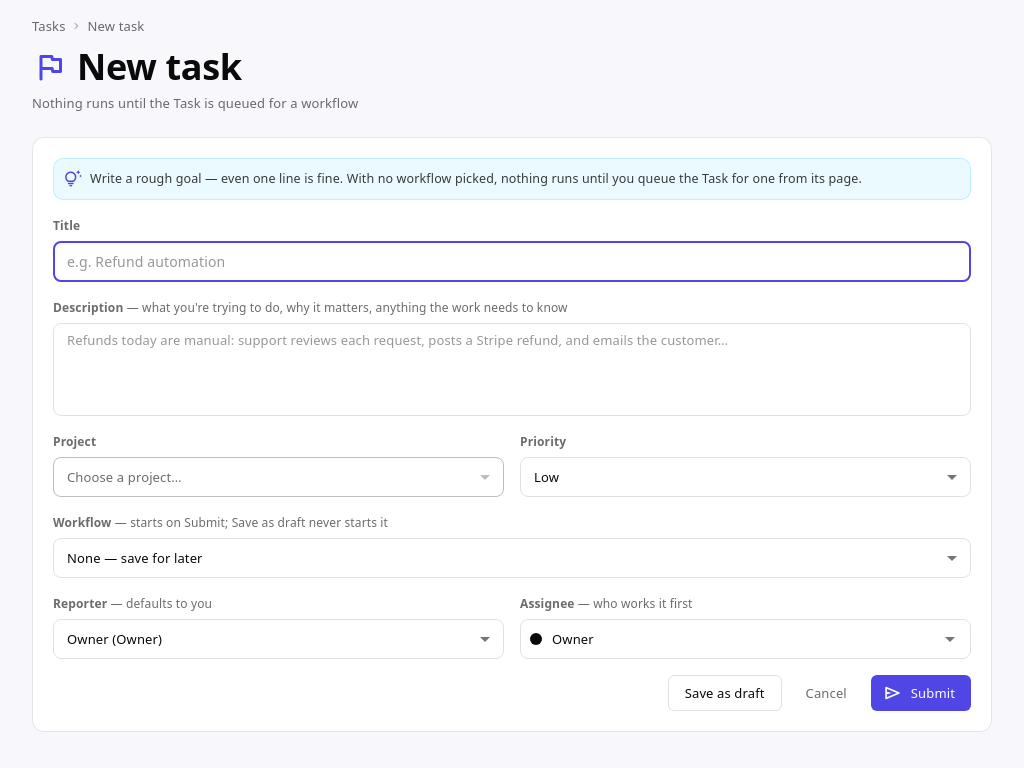
Test: TaskNew — workflow select (migration 022) › preselects the project's default and lists only workflows that take its Tasks
Type "Queued" into the field named "Title".
click(512, 262); type("Queued")  # box [53,242,971,282]
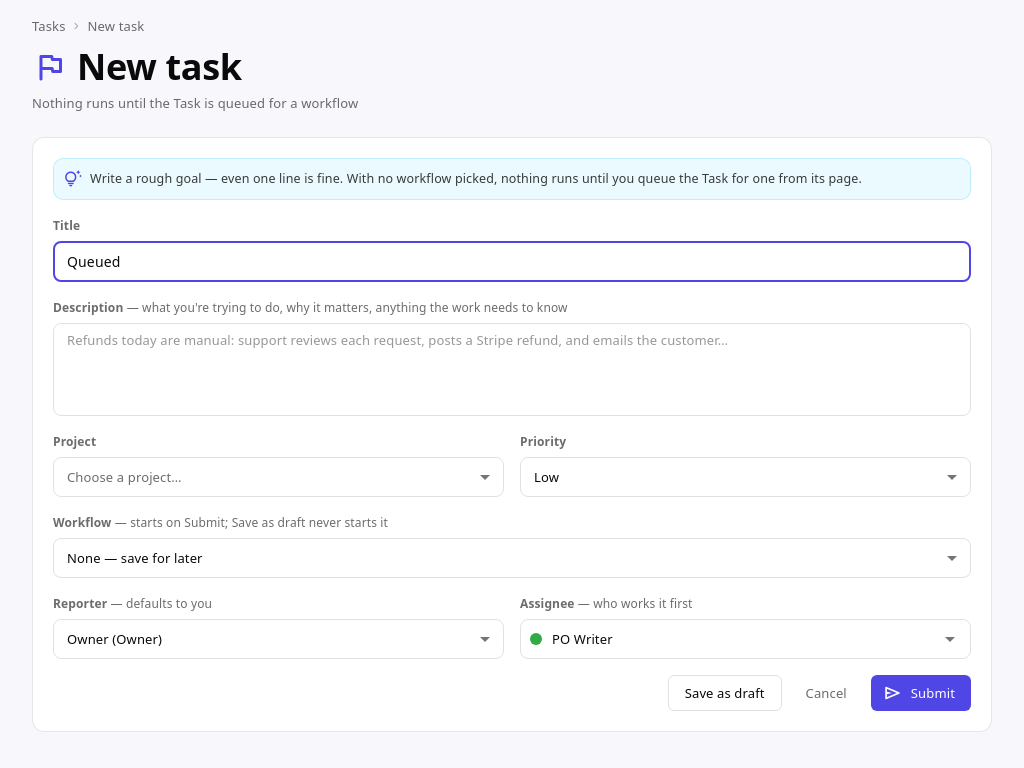
Replace the text in the text box named "Description" with "desc" at (512, 369), box [67,331,957,407]
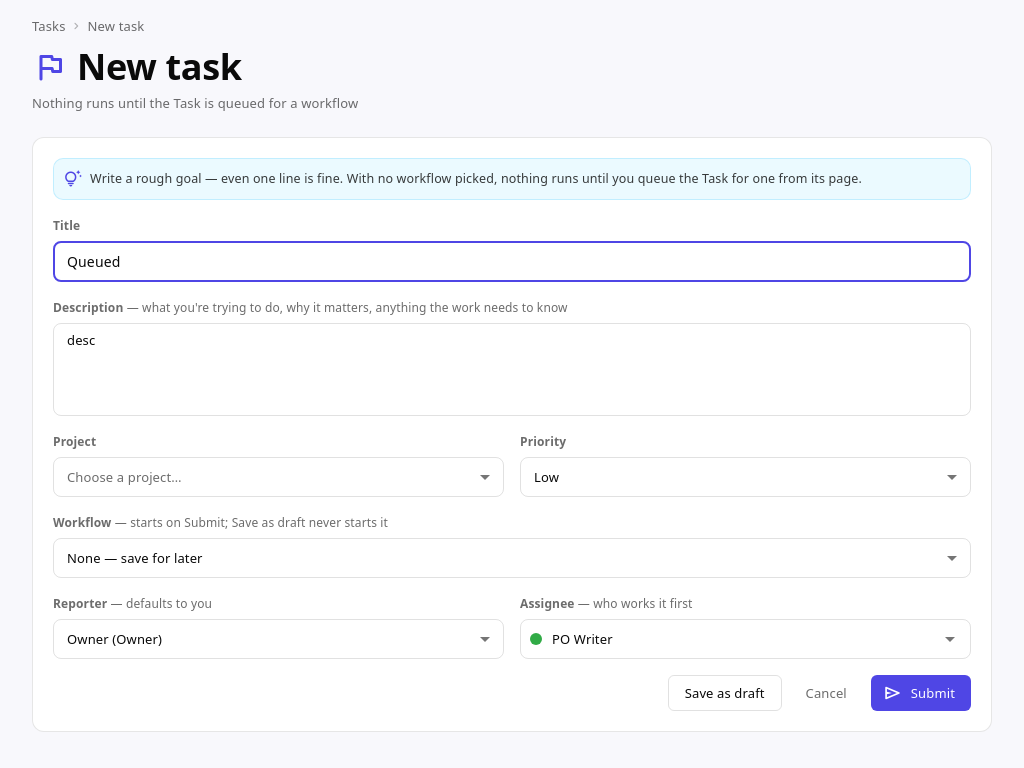
Press the mouse on the dropdown labelled "project" at (124, 477), box [67,468,182,486]
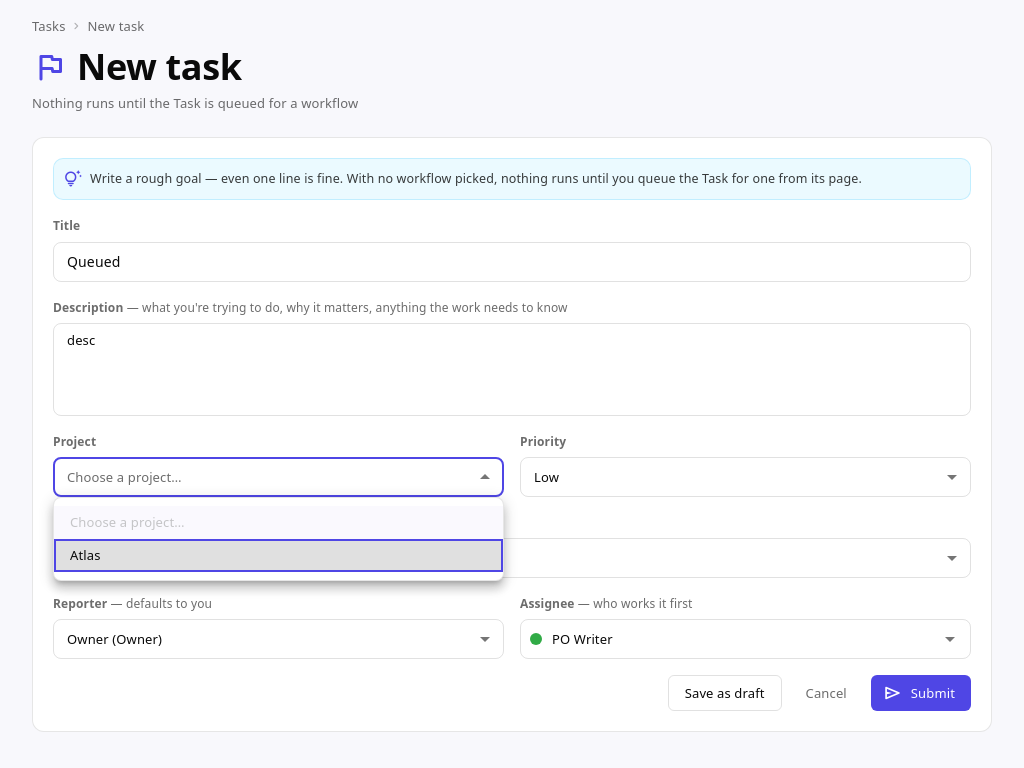
Click the option "Atlas".
click(85, 555)  # box [54,539,503,572]
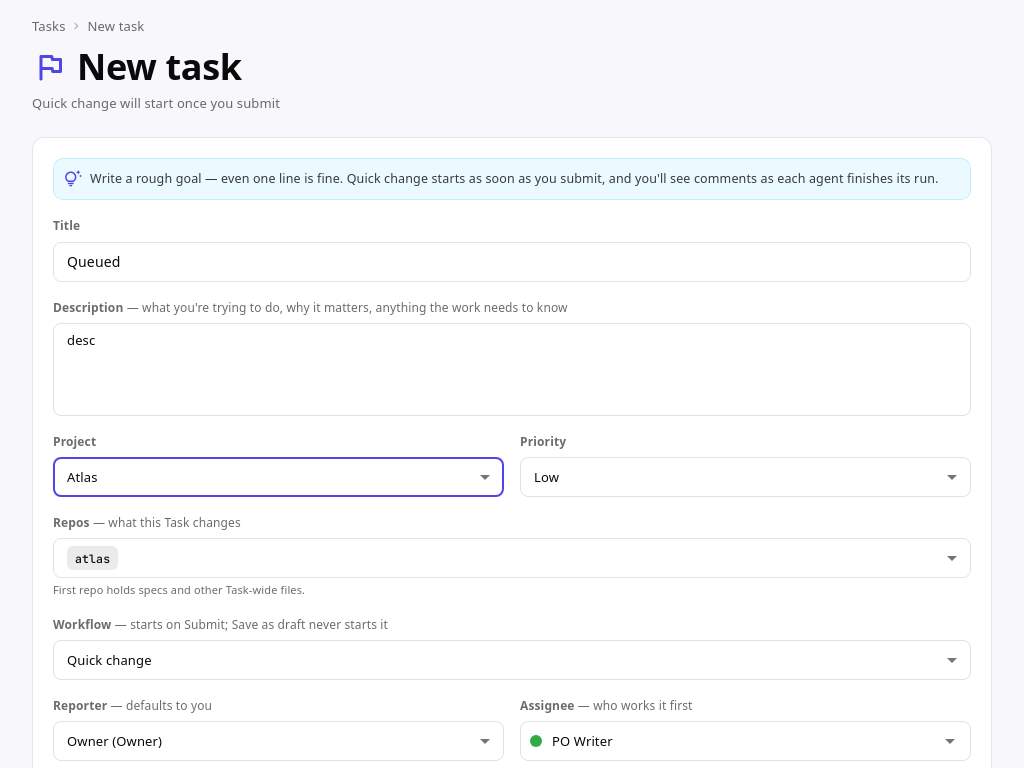
Result: the dropdown named "Repos" is shown at [67,546,118,570]
Result: the dropdown named "Workflow" reads "Quick change"
Result: the text "Quick change will start once you submit" is shown at [32,94,280,112]
Press the mouse on the dropdown named "Workflow" at (109, 660), box [67,651,152,669]
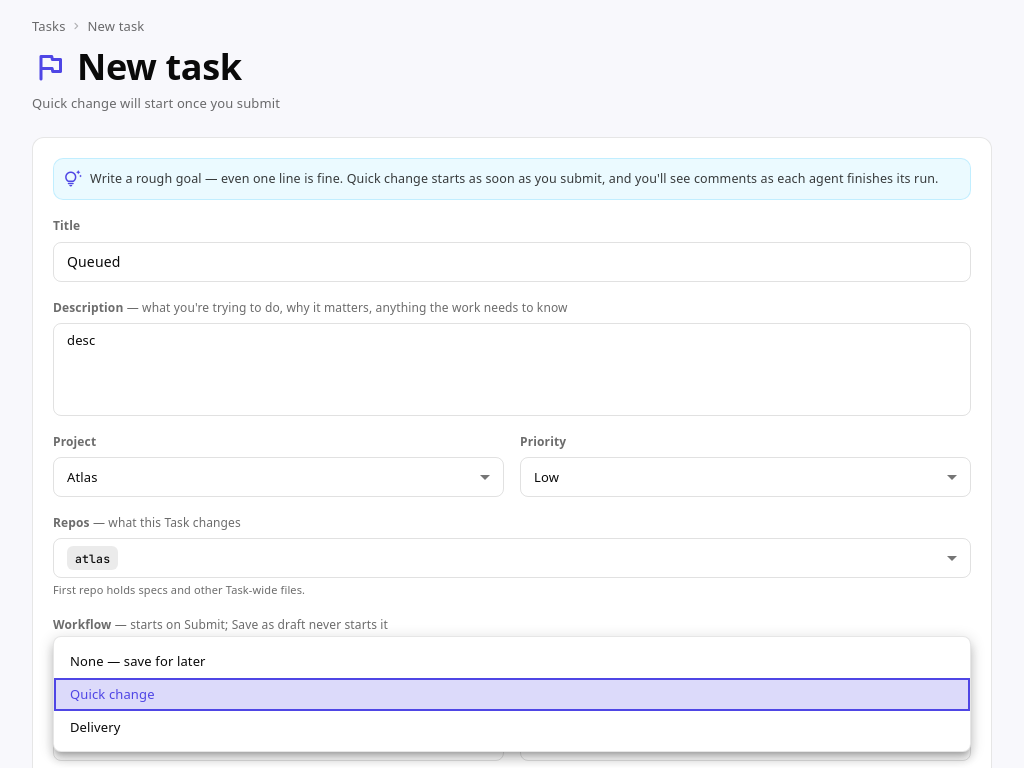
Result: the options read "None — save for later", "Quick change", "Delivery", in this order at [70,652,206,670]; [54,678,970,711]; [70,718,120,736]
